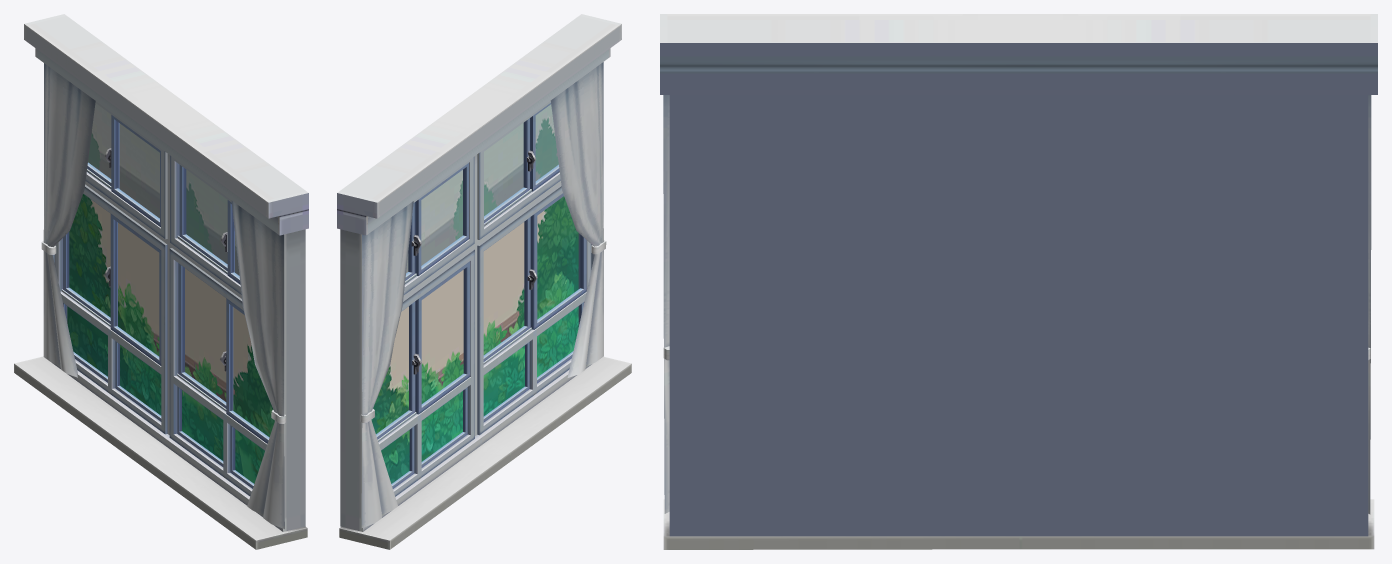
The model's file is my_abydosclassroom_01_window.glb.
The picture shows the model from 3 angles, left to right: view 1: azimuth 30°, elevation 25°; view 2: azimuth 150°, elevation 25°; view 3: azimuth 270°, elevation 25°; orthographic projection. The views are drawn at different scales.
Parts seen in each view (by area): view 1: my_abydosclassroom_01_window; view 2: my_abydosclassroom_01_window; view 3: my_abydosclassroom_01_window.
Part boxes in pixels (box(x1,y1,x2,y2)): my_abydosclassroom_01_window: box(14, 14, 308, 549); my_abydosclassroom_01_window: box(337, 14, 631, 549); my_abydosclassroom_01_window: box(660, 14, 1377, 549).
Size of the model in its own units: 0.00269 by 0.0172 by 0.0221.
1 material, 1 textured.
